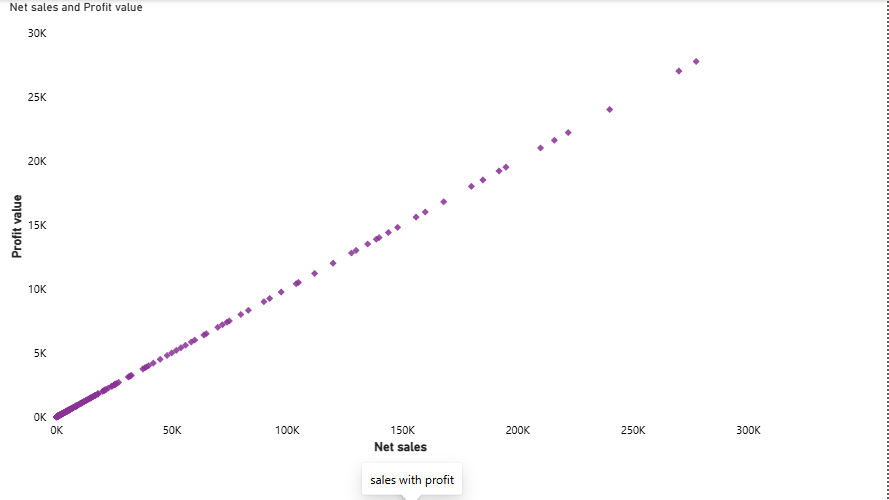

Layout of this report page (visuals, bound fields, positions):
{"tool":"powerbi","page":{"name":"sales with profit","canvas":[1280,720],"ordinal":2},"visuals":[{"type":"scatterChart","fields":{"Category":["fact table.Profit value"],"X":["Sum(fact table.Total sales)"]},"box":[10,0,1064.3,644.3],"z":0}]}

Visuals, with their boxes in screenshot pixels (x1, y1, x2, y2), scaled from the page's 1280x720 canvas onto the 889x500 screenshot:
scatterChart - fact table.Profit value x Sum(fact table.Total sales): region(7, 0, 746, 447)
